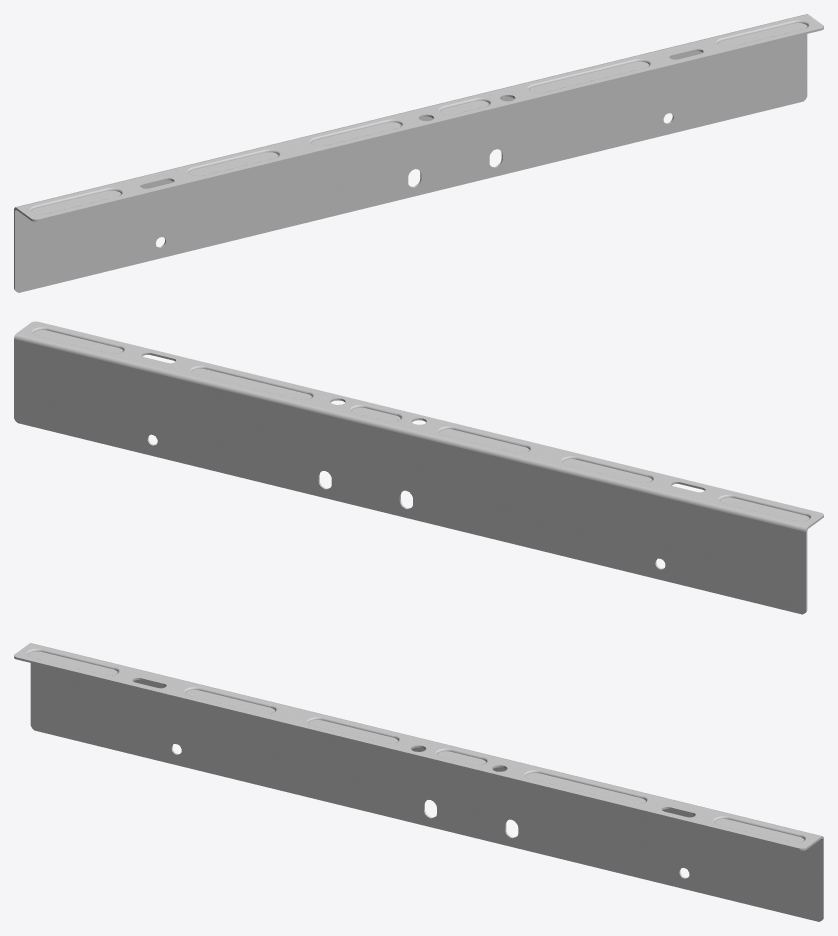
The model's file is fixa_countertop_support_fixture_galvaniz.glb.
3 views of the same model, one above another, from view 1: azimuth 30°, elevation 25°; view 2: azimuth 150°, elevation 25°; view 3: azimuth 330°, elevation 25° (orthographic).
Visible parts, largest first — view 1: Mesh_0; view 2: Mesh_0; view 3: Mesh_0.
Part boxes in pixels (x1=…): Mesh_0: x1=14, y1=14, x2=823, y2=292; Mesh_0: x1=14, y1=321, x2=823, y2=614; Mesh_0: x1=14, y1=643, x2=823, y2=921.
Bounding box in the file's own units: 0.39 × 0.041 × 0.017.
1 material, 1 textured.
